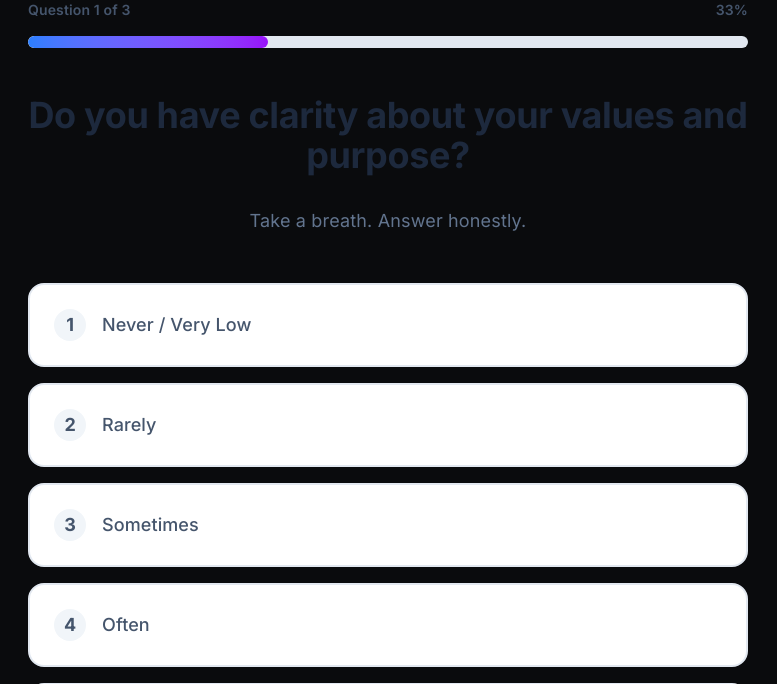
Scenario: AssessmentStepper Component › Navigation › should go back to previous question when Previous is clicked
The image size is (777, 684).
Click the button "3 Sometimes": point(70, 525) [28, 483, 748, 567]
(page scrolled)
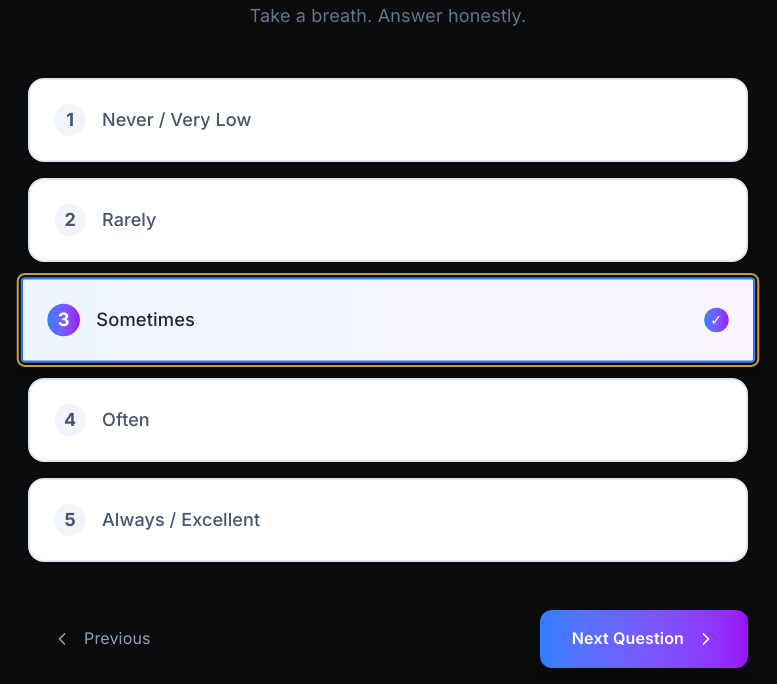
Click the button "Next Question": point(644, 639) [540, 610, 748, 668]
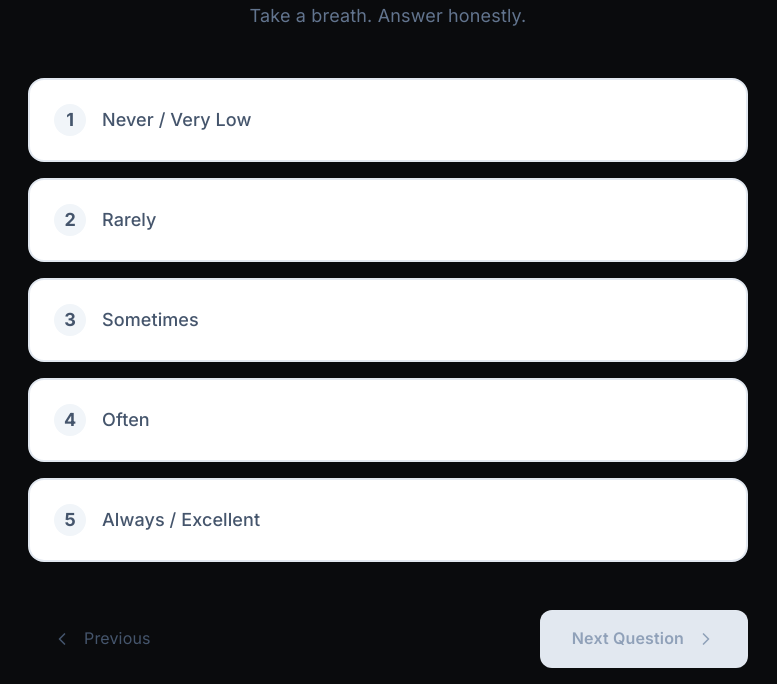
// Click Previous
Click the button "Previous": point(101, 639) [28, 614, 175, 664]
(page scrolled)
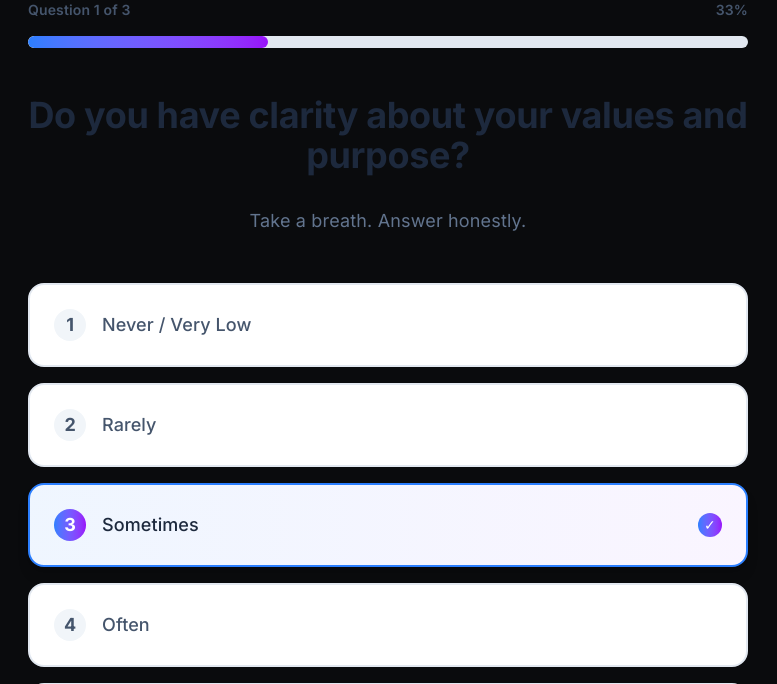
Expected: the heading "Do you have clarity about your values and purpose?" is shown, [28, 96, 748, 175]
Expected: the text "Question 1 of 3" is shown, [28, 0, 131, 20]
